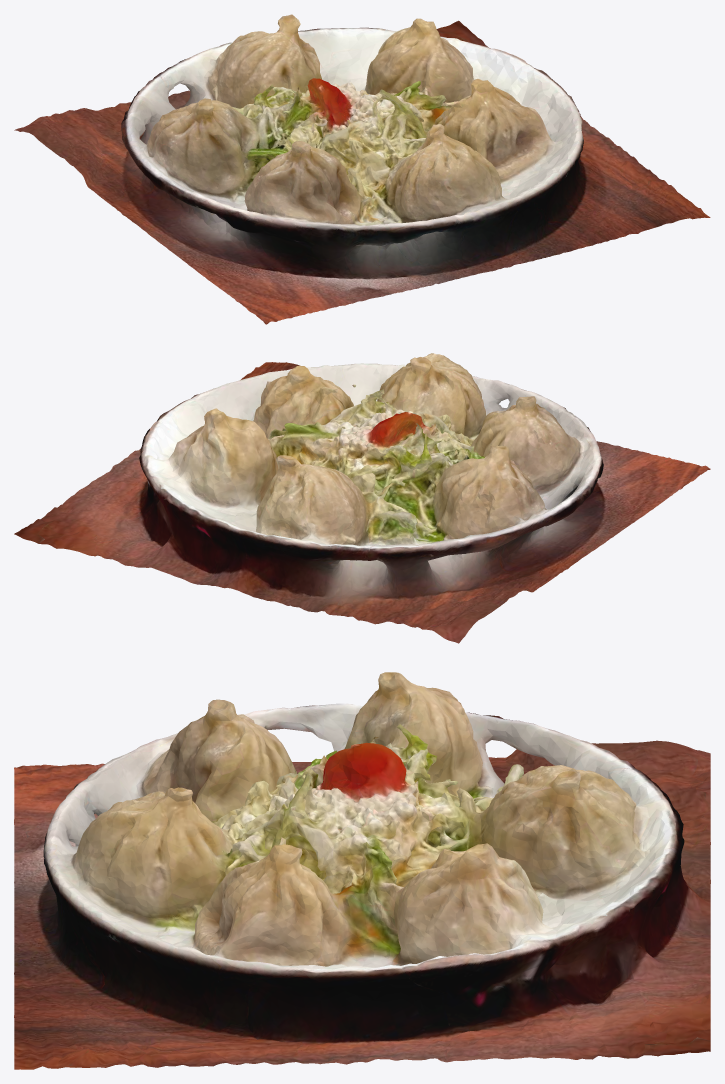
File: steam-momo.glb
3 views of the same model, one above another, from view 1: azimuth 30°, elevation 25°; view 2: azimuth 150°, elevation 25°; view 3: azimuth 270°, elevation 25° (orthographic). The views are drawn at different scales.
Visible parts, largest first — view 1: Object_4; view 2: Object_4; view 3: Object_4.
Boxes of the visible parts, x1=… form: Object_4: x1=14, y1=14, x2=710, y2=324; Object_4: x1=14, y1=353, x2=710, y2=643; Object_4: x1=14, y1=672, x2=710, y2=1069.
Bounding box in the file's own units: 0.2403 × 0.056 × 0.2359.
1 material, 1 textured.
